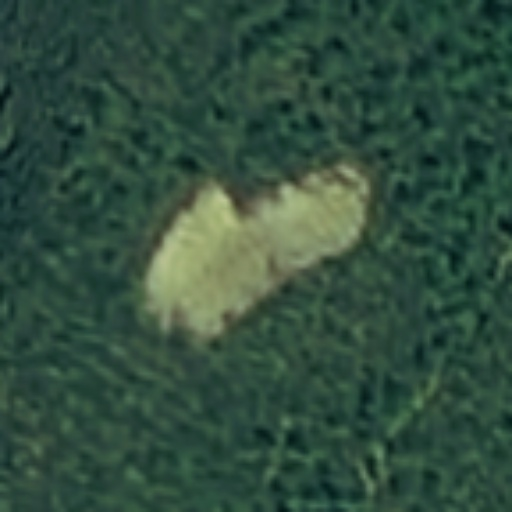landslide: (148, 171, 371, 332)
